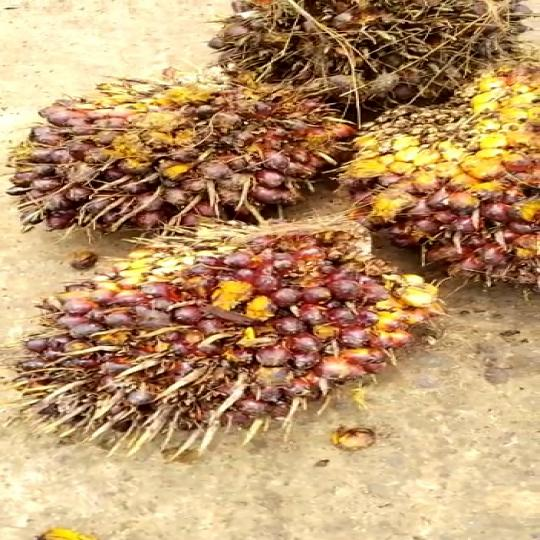masak: (26, 223, 439, 454), (0, 63, 372, 223), (204, 0, 517, 103)
